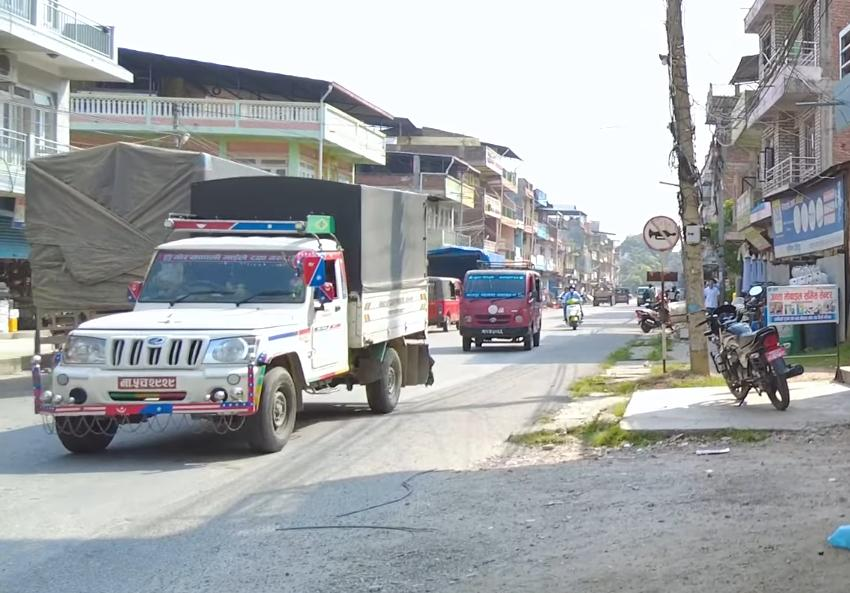bike: (689, 299, 805, 412)
scooter: (558, 278, 589, 341), (630, 299, 675, 335)
transport_vehicle: (29, 168, 441, 465)
van: (453, 263, 546, 355)
